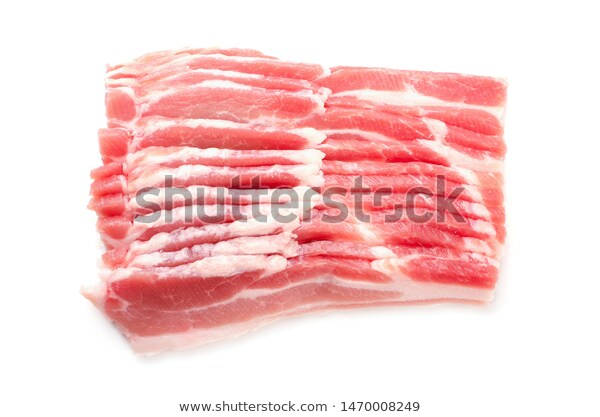bacon: (78, 33, 526, 334)
